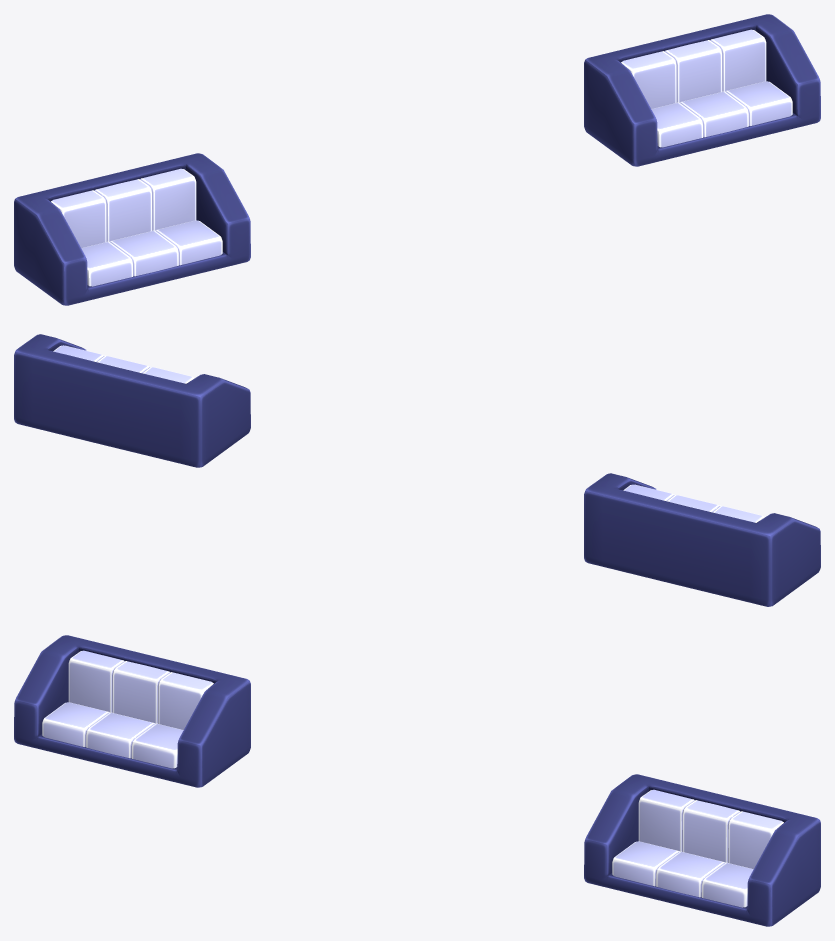
The model's file is obj_sofa.gltf.
3 views of the same model, one above another, from view 1: azimuth 30°, elevation 25°; view 2: azimuth 150°, elevation 25°; view 3: azimuth 330°, elevation 25° (orthographic).
Parts seen in each view (by area): view 1: obj_sofa; view 2: obj_sofa; view 3: obj_sofa.
Part boxes in pixels (x1,y1,x2,y2): obj_sofa: (14,14,820,305); obj_sofa: (14,334,820,606); obj_sofa: (14,635,820,926).
Size of what is drawn, in the model's own units: 10.14 by 0.9571 by 1.21.
Materials: 1 (1 with a texture image).
